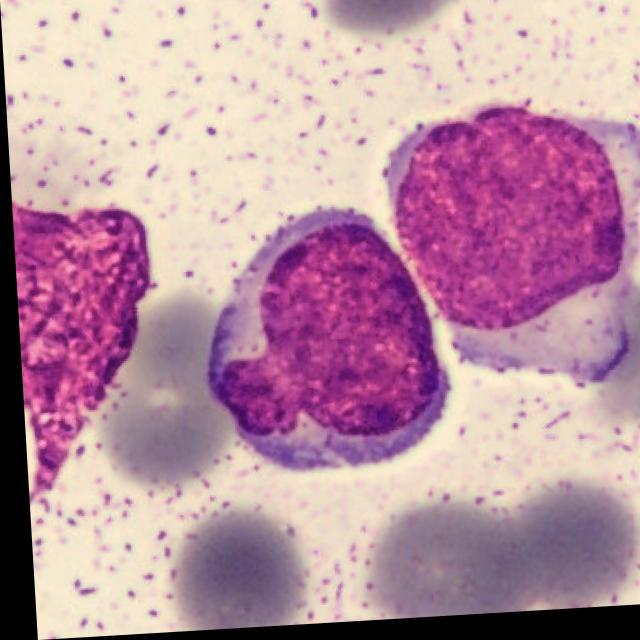Mieloblasto: (384, 113, 640, 386), (201, 213, 447, 476)
Restos celulares: (9, 202, 148, 501)
